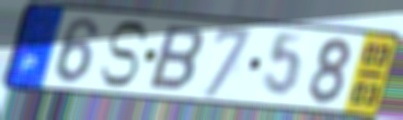5: (260, 30, 307, 104)
6: (52, 15, 103, 88)
7: (204, 23, 257, 101)
8: (306, 36, 355, 107)
B: (145, 22, 206, 94)
S: (97, 18, 152, 90)
